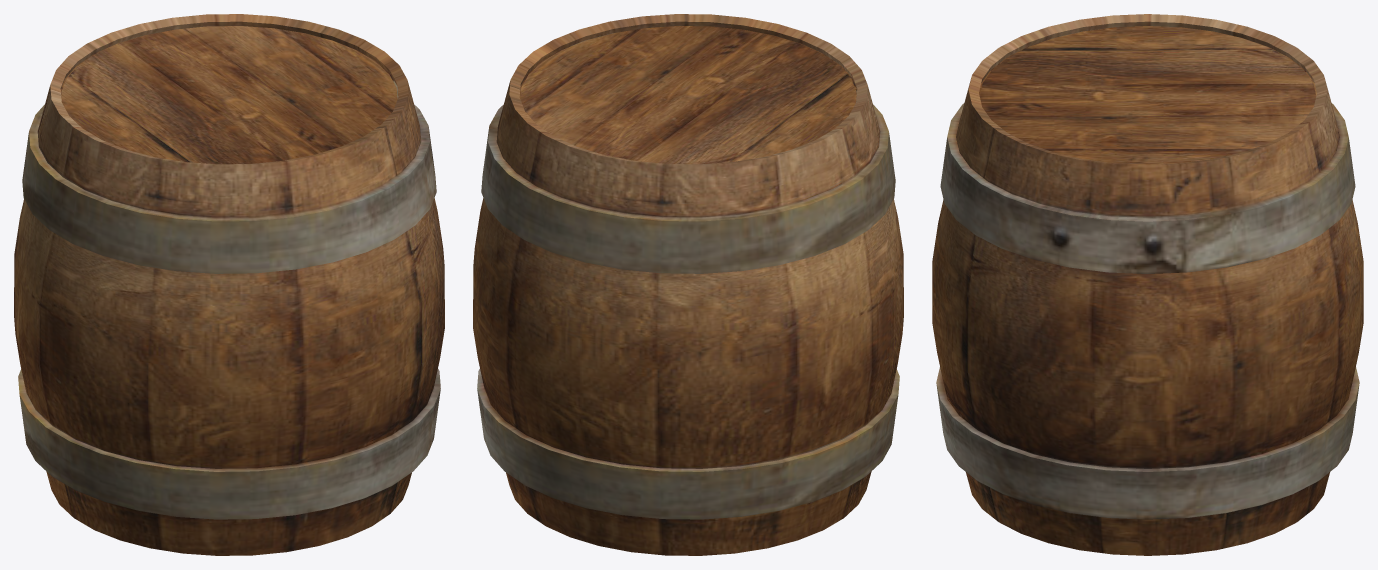
File: barrel.fbx
The picture shows the model from 3 angles, left to right: view 1: azimuth 30°, elevation 25°; view 2: azimuth 150°, elevation 25°; view 3: azimuth 270°, elevation 25°; orthographic projection.
Parts seen in each view (by area): view 1: Barrel; view 2: Barrel; view 3: Barrel.
Part boxes in pixels (x1,y1,x2,y2): Barrel: (14,14,444,555); Barrel: (473,14,903,555); Barrel: (932,14,1363,555).
Bounding box in the file's own units: 241 × 241 × 240.
